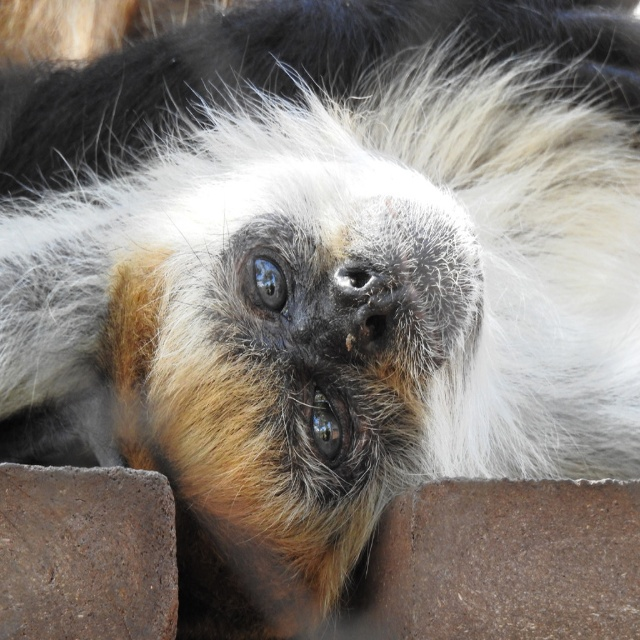Monkey: (0, 0, 640, 630)
